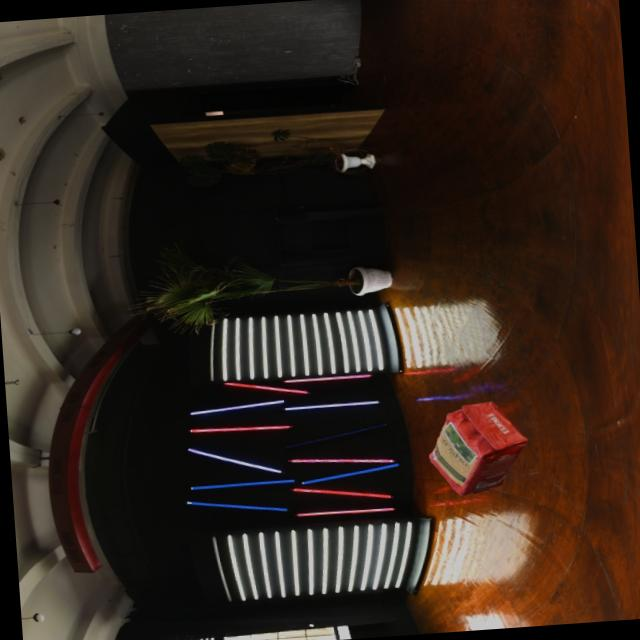mate bag: (422, 398, 530, 498)
